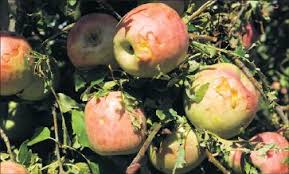damaged_apple: (114, 3, 192, 73), (185, 63, 257, 134), (79, 95, 152, 152), (149, 120, 208, 170), (67, 15, 120, 69), (233, 128, 289, 172), (2, 34, 40, 97)
